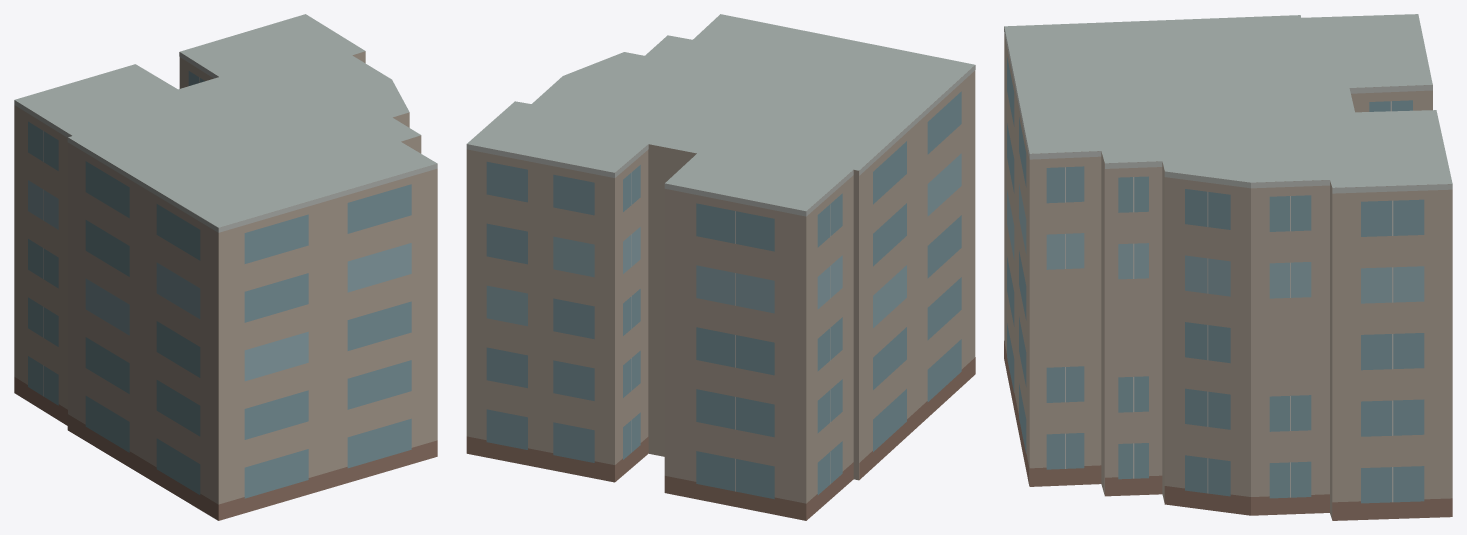
File: survey-upis-32635310.glb
3 renders of one model, left to right at view 1: azimuth 30°, elevation 25°; view 2: azimuth 150°, elevation 25°; view 3: azimuth 270°, elevation 25°, orthographic. The views are drawn at different scales.
Parts seen in each view (by area): view 1: survey-upis-32635310.tmp; view 2: survey-upis-32635310.tmp; view 3: survey-upis-32635310.tmp.
Boxes of the visible parts, <box> form: survey-upis-32635310.tmp: <box>14,14,437,520</box>; survey-upis-32635310.tmp: <box>466,14,975,520</box>; survey-upis-32635310.tmp: <box>1004,14,1452,520</box>.
Size of the model in its own units: 15.91 by 14.2 by 17.34.
